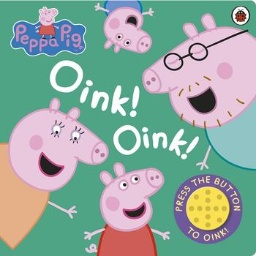Peppa: (84, 162, 172, 256)
